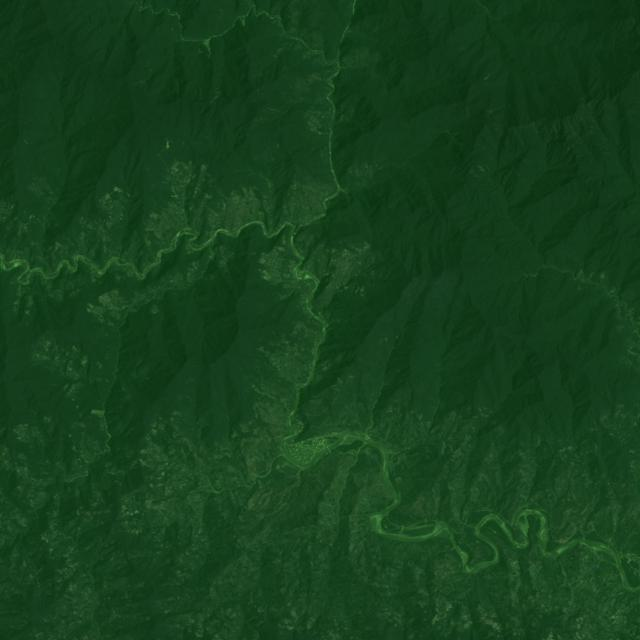landslides: (252, 384, 278, 403), (446, 129, 468, 146), (158, 193, 169, 209), (216, 406, 229, 419), (204, 39, 212, 55), (149, 302, 159, 314), (29, 241, 41, 251), (267, 107, 284, 114), (209, 94, 220, 104), (207, 206, 217, 216)
